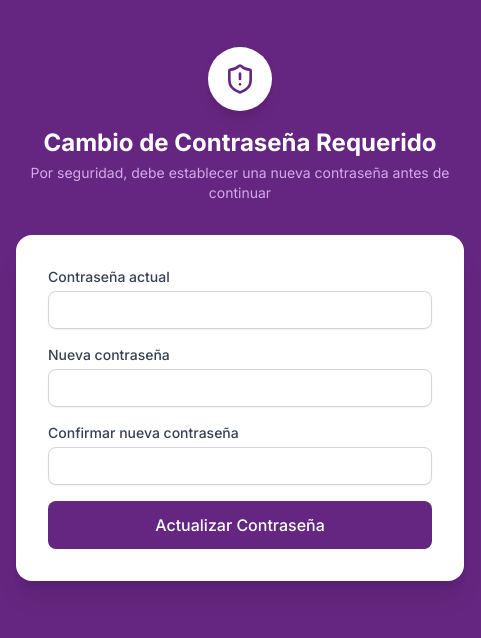
Test: ChangePasswordPage › muestra error del servidor si la petición falla
This screenshot has width=481, height=638.
Type "actualMal" into the password field labelled "Contraseña actual" at (240, 310), box [48,291,432,329]
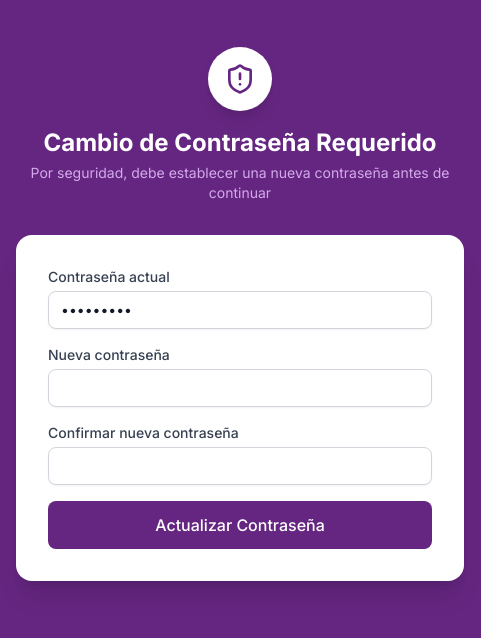
Type "Nueva1234!" into the password field labelled "Nueva contraseña" at (240, 388), box [48,369,432,407]
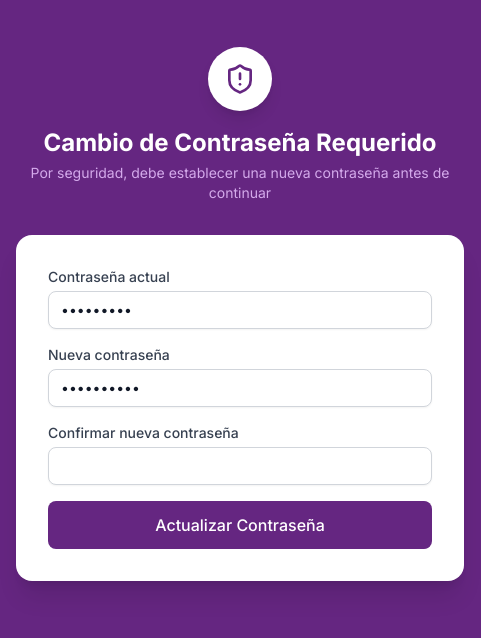
Type "Nueva1234!" into the password field labelled "Confirmar nueva contraseña" at (240, 466), box [48,447,432,485]
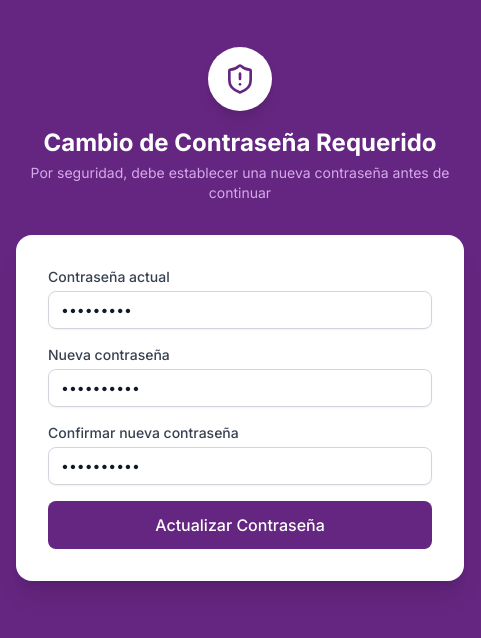
Click the button "Actualizar Contraseña" at (240, 525), box [48,501,432,549]
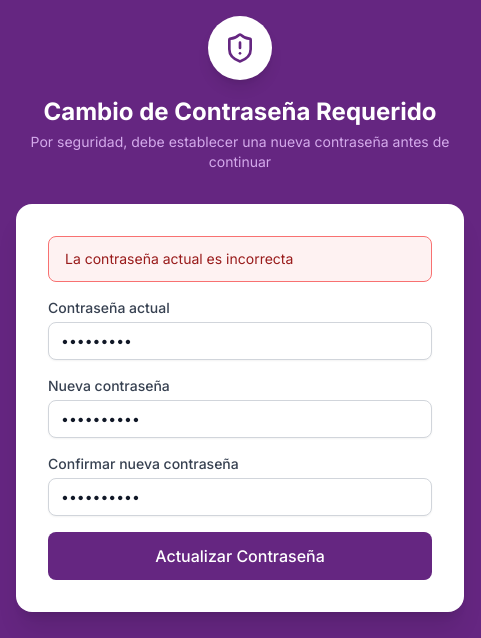
Now the text "La contraseña actual es incorrecta" is shown, box [48,236,432,282]
